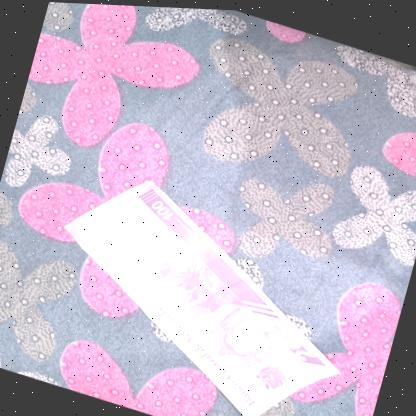one_hundred-back-vef: (27, 153, 375, 416)
